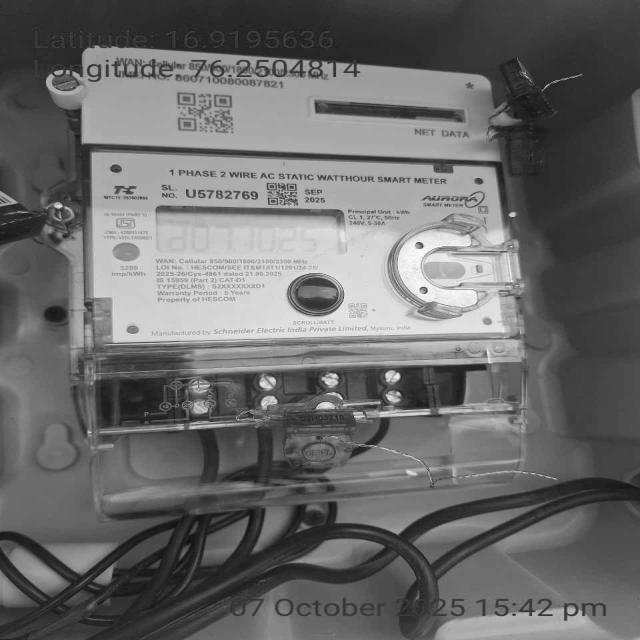meter: (80, 45, 523, 340)
